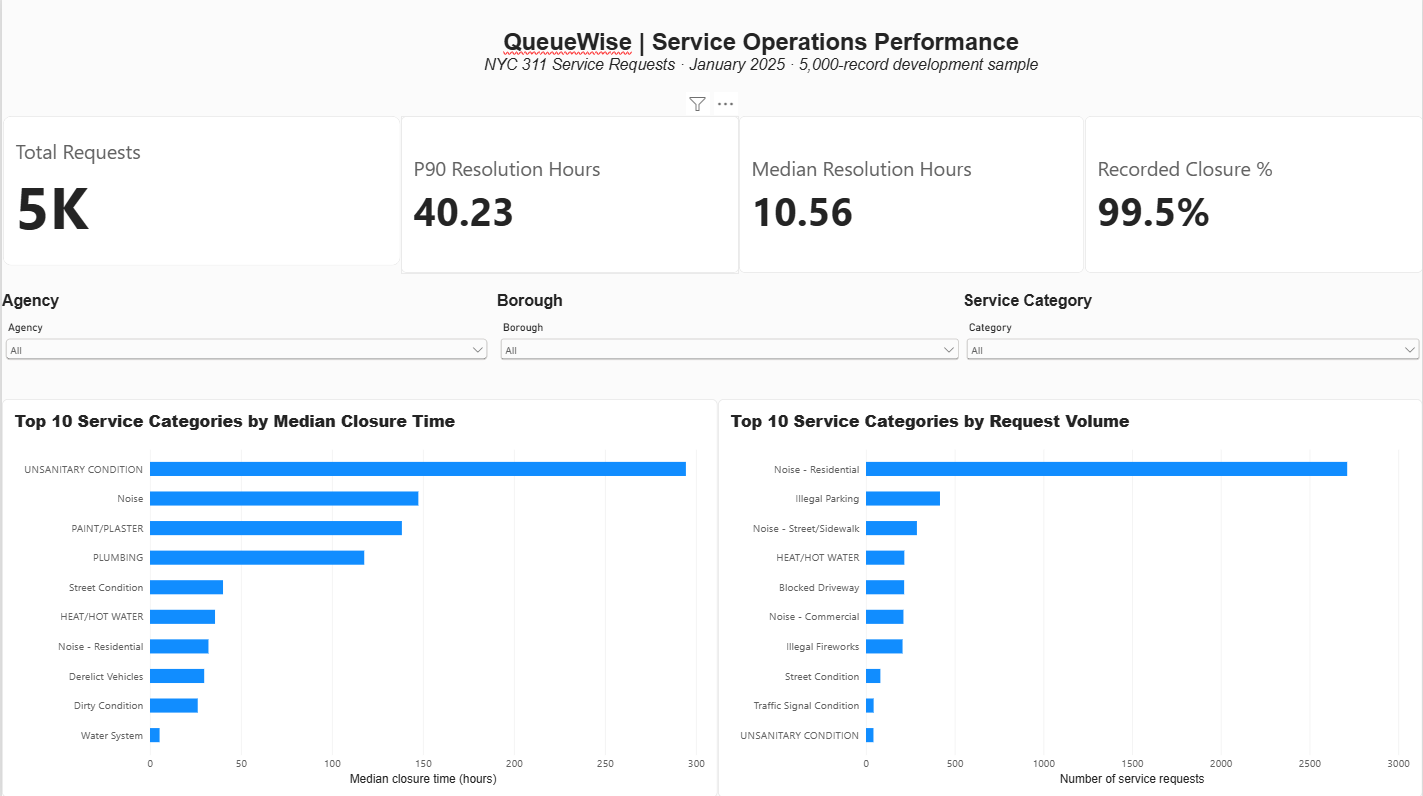

The page's visual inventory and layout, read from the dashboard file:
{"tool":"powerbi","page":{"name":"Operations Overview","canvas":[1920,1080],"ordinal":1},"visuals":[{"type":"cardVisual","fields":{"Data":["FactRequests.Total Requests"]},"box":[1.3,159.6,537.3,202.2],"z":0},{"type":"cardVisual","fields":{"Data":["FactRequests.Recorded Closure %"]},"box":[1463.1,159.6,457.5,212.8],"z":1000},{"type":"cardVisual","fields":{"Data":["FactRequests.Median Resolution Hours"]},"box":[996.2,159.6,466.8,212.8],"z":2000},{"type":"cardVisual","fields":{"Data":["FactRequests.P90 Resolution Hours"]},"box":[538.7,159.6,457.5,212.8],"z":3000},{"type":"clusteredBarChart","title":"Top 10 Service Categories by Median Closure Time","fields":{"Category":["DimCategory.Category"],"Y":["FactRequests.Eligible Median Resolution"]},"box":[0,541.3,966.9,538.7],"z":4000},{"type":"clusteredBarChart","title":"Top 10 Service Categories by Request Volume","fields":{"Category":["DimCategory.Category"],"Y":["FactRequests.Total Requests"]},"box":[966.9,541.3,952.3,538.7],"z":5000},{"type":"slicer","title":"Agency","fields":{"Values":["FactRequests.Agency"]},"box":[0,397.7,661,142.3],"z":6000},{"type":"slicer","title":"Borough","fields":{"Values":["FactRequests.Borough"]},"box":[669,397.7,629.1,142.3],"z":7000},{"type":"slicer","title":"Service Category","fields":{"Values":["DimCategory.Category"]},"box":[1298.1,397.7,622.5,142.3],"z":8000},{"type":"textbox","box":[493.2,41.9,1064.9,90.5],"z":9000}]}

Visuals, with their boxes in screenshot pixels (x1, y1, x2, y2), scaled from the page's 1920x1080 canvas onto the 1423x796 screenshot:
cardVisual - FactRequests.Total Requests: pyautogui.locateOnScreen(1, 118, 399, 267)
cardVisual - FactRequests.Recorded Closure %: pyautogui.locateOnScreen(1084, 118, 1422, 274)
cardVisual - FactRequests.Median Resolution Hours: pyautogui.locateOnScreen(738, 118, 1084, 274)
cardVisual - FactRequests.P90 Resolution Hours: pyautogui.locateOnScreen(399, 118, 738, 274)
"Top 10 Service Categories by Median Closure Time" clusteredBarChart: pyautogui.locateOnScreen(0, 399, 717, 795)
"Top 10 Service Categories by Request Volume" clusteredBarChart: pyautogui.locateOnScreen(717, 399, 1422, 795)
"Agency" slicer: pyautogui.locateOnScreen(0, 293, 490, 398)
"Borough" slicer: pyautogui.locateOnScreen(496, 293, 962, 398)
"Service Category" slicer: pyautogui.locateOnScreen(962, 293, 1422, 398)
textbox: pyautogui.locateOnScreen(366, 31, 1155, 98)
